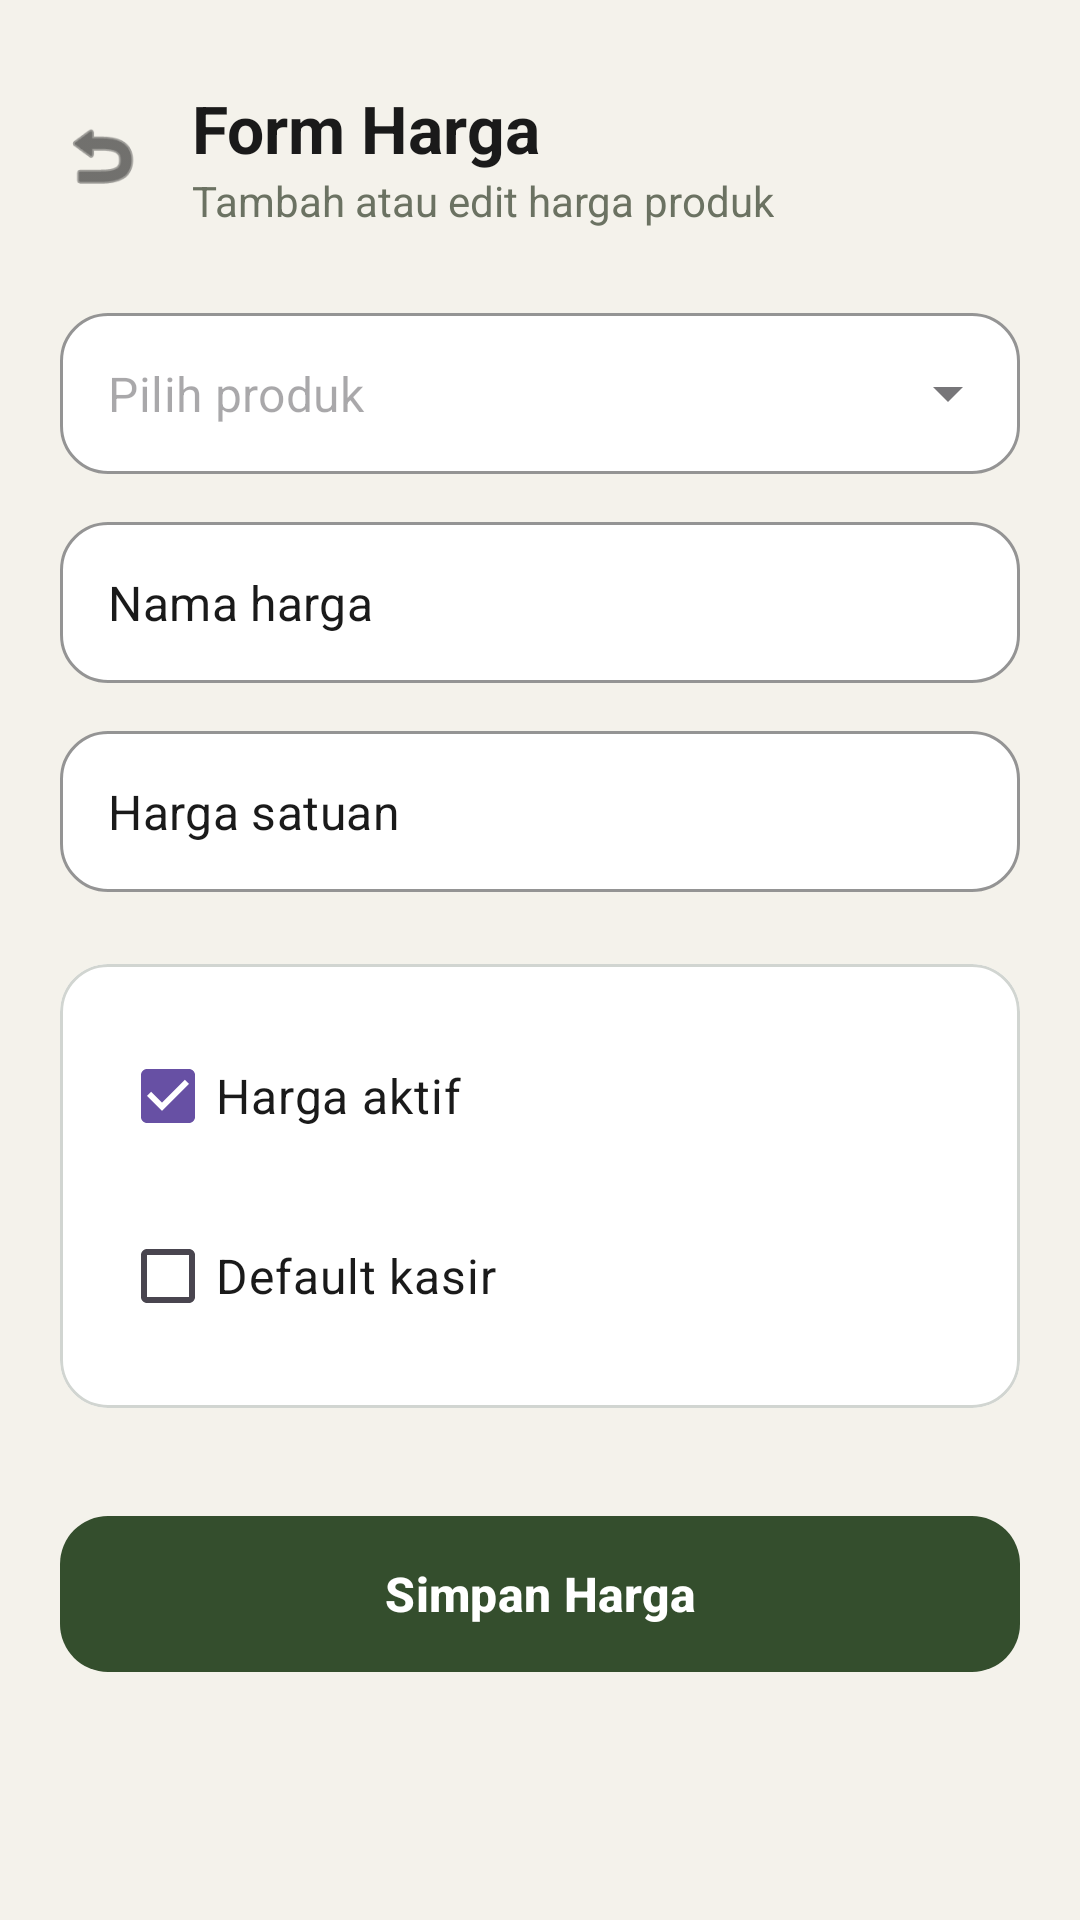

Where to tap for icons on this 1080 x 1920 app screen, as point (x, y):
revert: point (103, 156)
